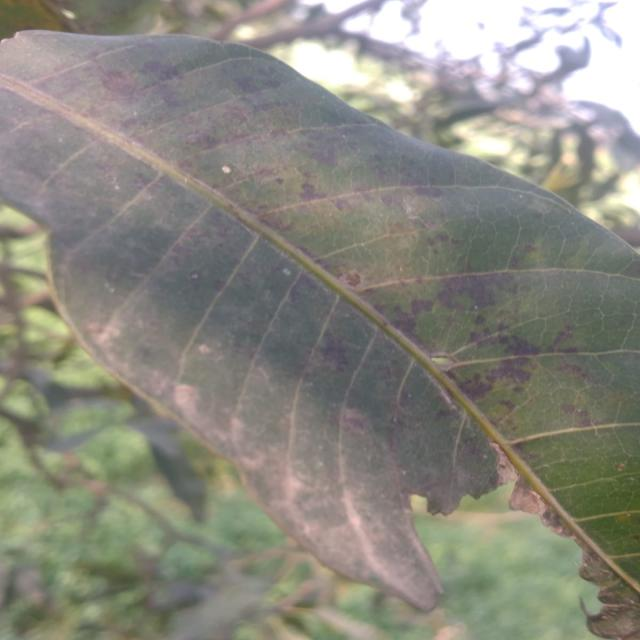black die: (418, 227, 550, 379), (119, 62, 266, 164)
